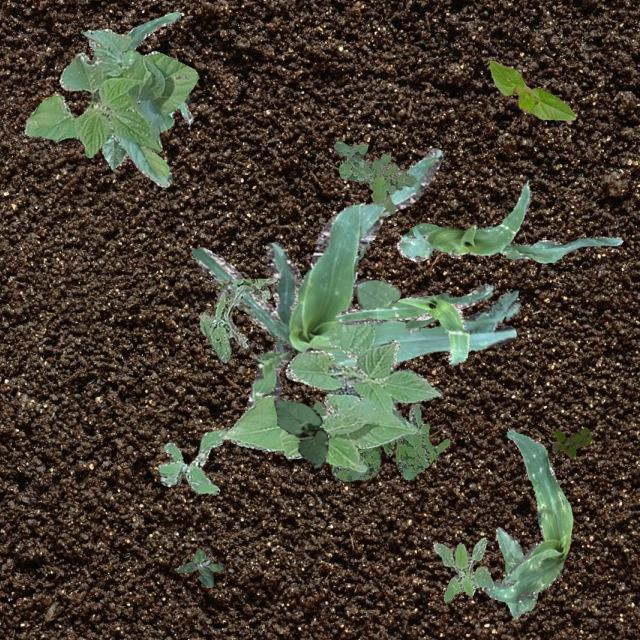crop: (192, 148, 520, 408), (223, 320, 442, 470), (24, 27, 198, 186), (396, 180, 622, 262), (481, 428, 572, 602), (334, 282, 492, 364), (121, 11, 192, 122), (352, 278, 452, 332), (488, 60, 574, 120), (272, 394, 328, 466), (494, 526, 536, 618), (100, 134, 126, 168), (183, 92, 190, 104)
weed: (312, 400, 448, 480), (198, 276, 276, 362), (332, 140, 416, 212), (156, 428, 226, 494), (432, 536, 492, 602), (175, 548, 222, 586), (550, 426, 590, 456)
